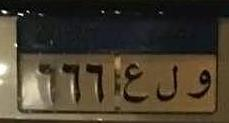6: (84, 62, 108, 107), (35, 60, 58, 105), (61, 61, 82, 104)
ain: (121, 61, 149, 109)
laam: (154, 59, 181, 106)
waw: (186, 61, 213, 106)
